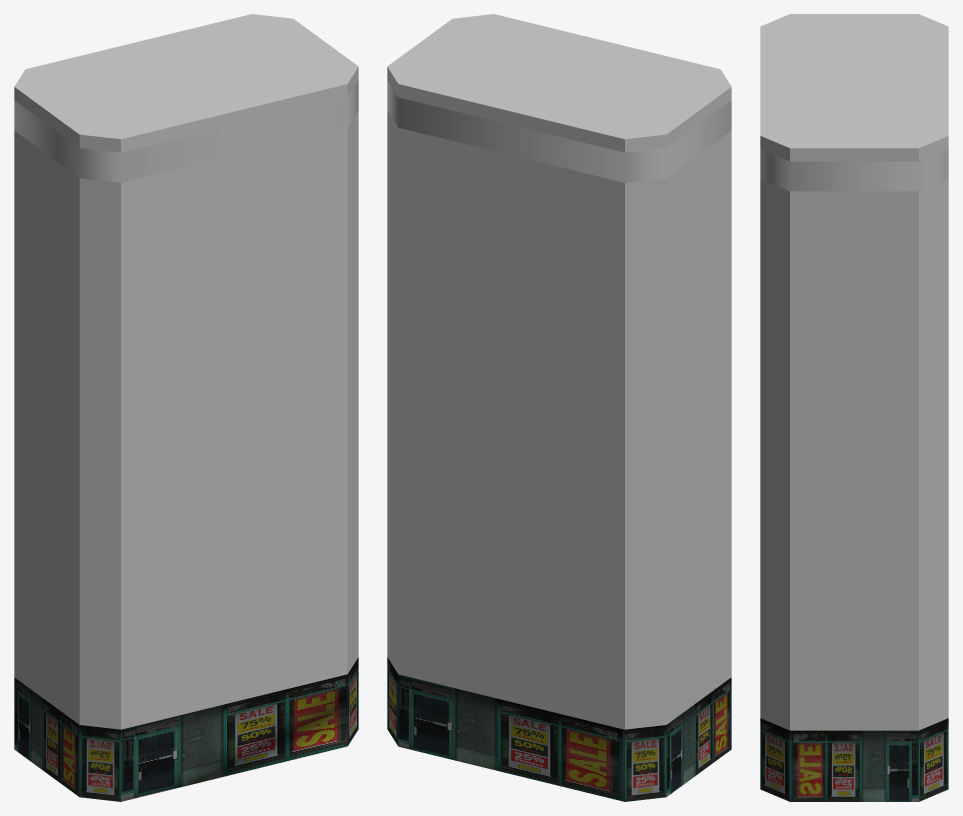
The model's file is NEW building 16.fbx.
3 renders of one model, left to right at view 1: azimuth 30°, elevation 25°; view 2: azimuth 150°, elevation 25°; view 3: azimuth 270°, elevation 25°, orthographic.
Visible parts, largest first — view 1: Object_6.003; view 2: Object_6.003; view 3: Object_6.003.
Boxes of the visible parts, x1,y1,x2,y2 form: Object_6.003: (14,14,358,801); Object_6.003: (387,14,731,801); Object_6.003: (760,14,948,801).
Bounding box in the file's own units: 288 × 653 × 171.
